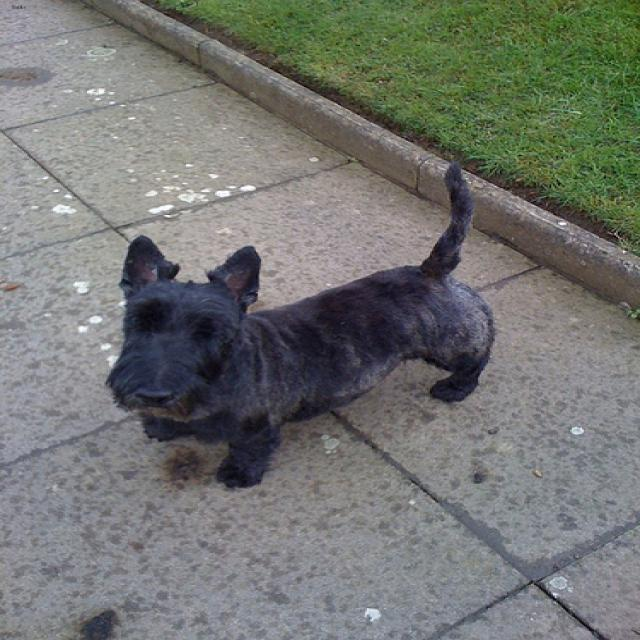dog-scottish_terrier: (92, 155, 503, 493)
